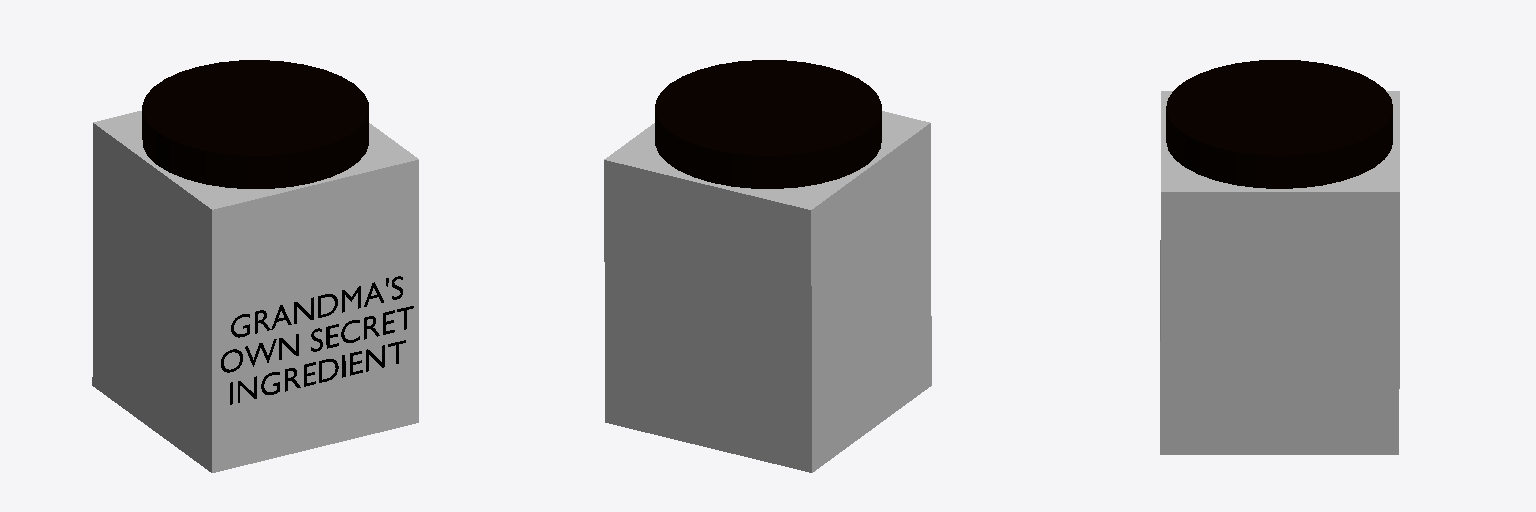
The model's file is GrandmasIngredient.obj.
3 views of the same model, side by side, from view 1: azimuth 30°, elevation 25°; view 2: azimuth 150°, elevation 25°; view 3: azimuth 270°, elevation 25° (orthographic).
Visible parts, largest first — view 1: Cube, Cylinder, Text; view 2: Cube, Cylinder; view 3: Cube, Cylinder.
Boxes of the visible parts, x1,y1,x2,y2 form: Cube: [92, 111, 418, 472]; Cylinder: [142, 60, 368, 188]; Text: [221, 276, 413, 404]; Cube: [604, 111, 931, 472]; Cylinder: [655, 60, 881, 188]; Cube: [1160, 91, 1399, 454]; Cylinder: [1166, 60, 1392, 188].
Bounding box in the file's own units: 2.01 × 2.73 × 2.01.